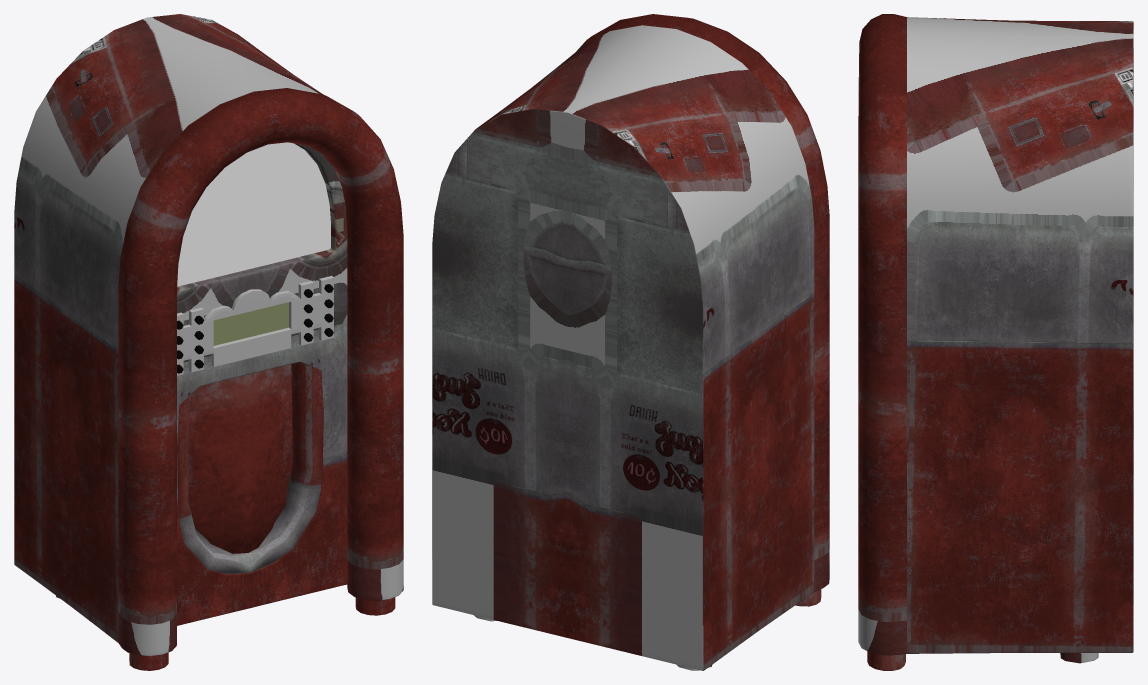
File: MD_JukeBox_to_TX.fbx
3 renders of one model, left to right at view 1: azimuth 30°, elevation 25°; view 2: azimuth 150°, elevation 25°; view 3: azimuth 270°, elevation 25°, orthographic. The views are drawn at different scales.
Parts seen in each view (by area): view 1: polySurface3, polySurface2, MD_Cristal, polySurface1, MD_Placa, MD_Pantalla; view 2: polySurface3; view 3: polySurface3.
Part boxes in pixels (x1,y1,x2,y2): polySurface3: [14, 14, 403, 670]; polySurface2: [188, 364, 292, 553]; MD_Cristal: [177, 142, 330, 286]; polySurface1: [177, 362, 323, 574]; MD_Placa: [177, 275, 333, 375]; MD_Pantalla: [213, 302, 288, 345]; polySurface3: [432, 14, 829, 670]; polySurface3: [858, 14, 1133, 670].
Bounding box in the file's own units: 0.9522 × 1.78 × 0.7735.
